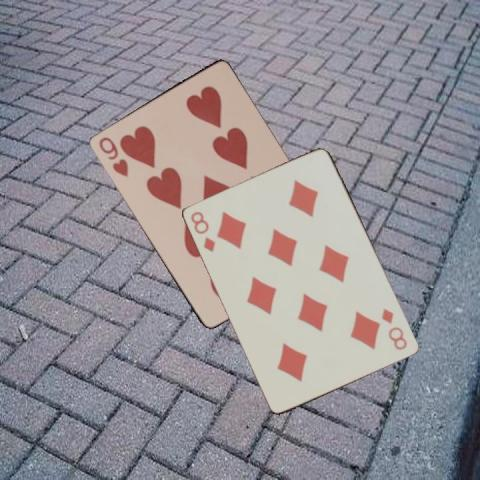8d: (379, 305, 409, 352), (188, 208, 217, 254)
9h: (96, 133, 130, 179)
